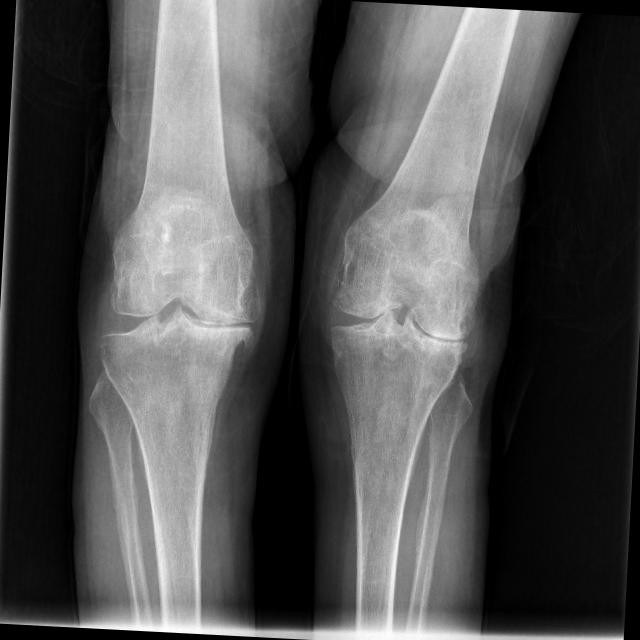Knee: (322, 242, 482, 396), (96, 242, 256, 390)
